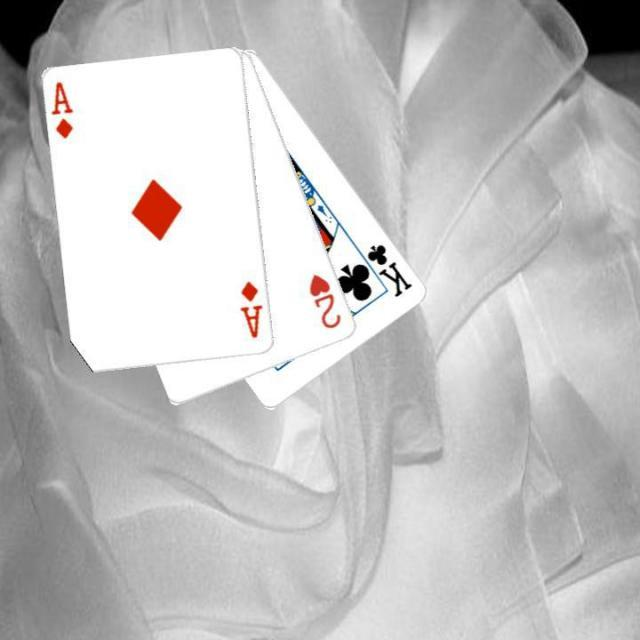2H: (306, 270, 344, 331)
AD: (236, 278, 265, 340), (48, 78, 76, 140)
KC: (352, 240, 414, 300)
